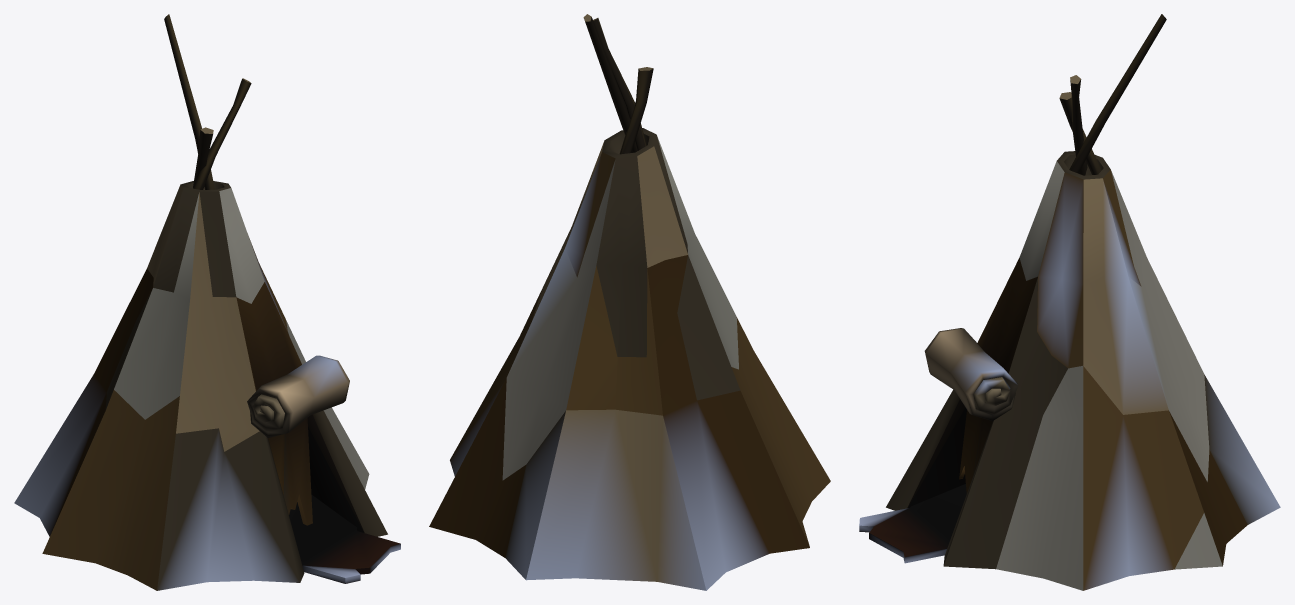
File: Tent_01.fbx
3 renders of one model, left to right at view 1: azimuth 30°, elevation 25°; view 2: azimuth 150°, elevation 25°; view 3: azimuth 270°, elevation 25°, orthographic. The views are drawn at different scales.
Visible parts, largest first — view 1: Tent_01; view 2: Tent_01; view 3: Tent_01.
Part boxes in pixels (x1,y1,x2,y2): Tent_01: (14, 14, 400, 590); Tent_01: (429, 14, 830, 590); Tent_01: (859, 14, 1280, 590).
Size of the model in its own units: 3959 by 5487 by 4224.
